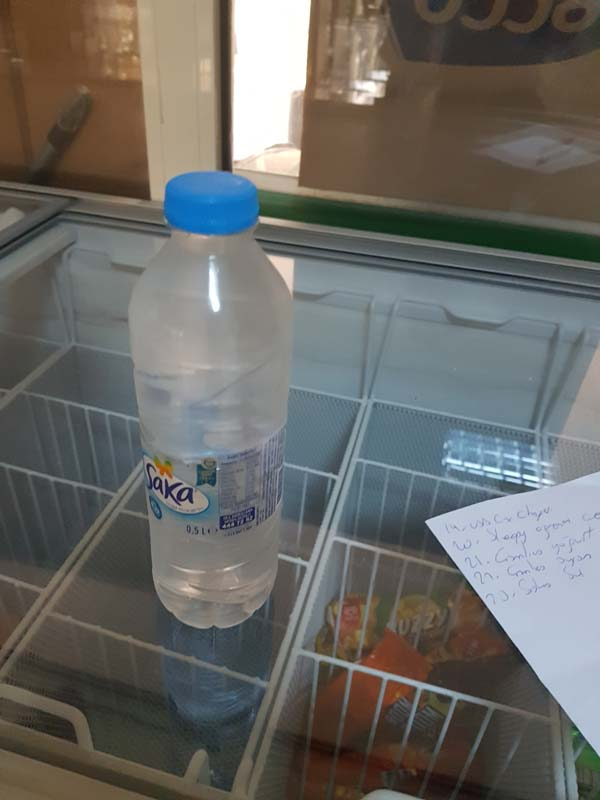saka500mlsu: (125, 164, 299, 629)
